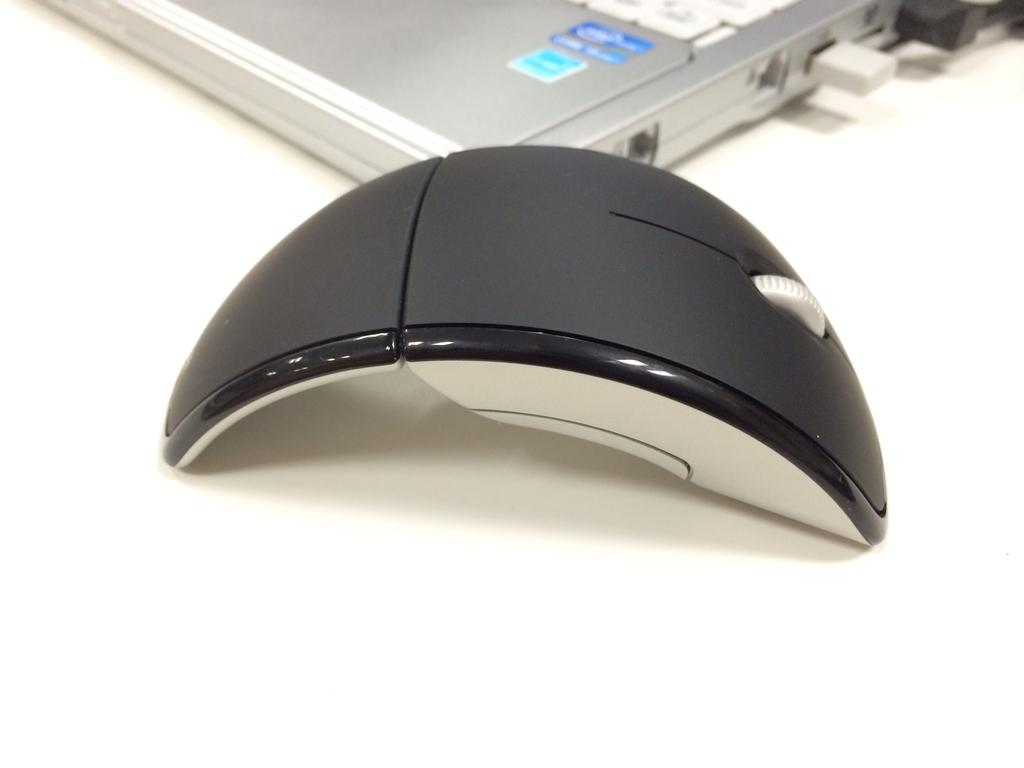Computer-mouse: (159, 142, 885, 545)
